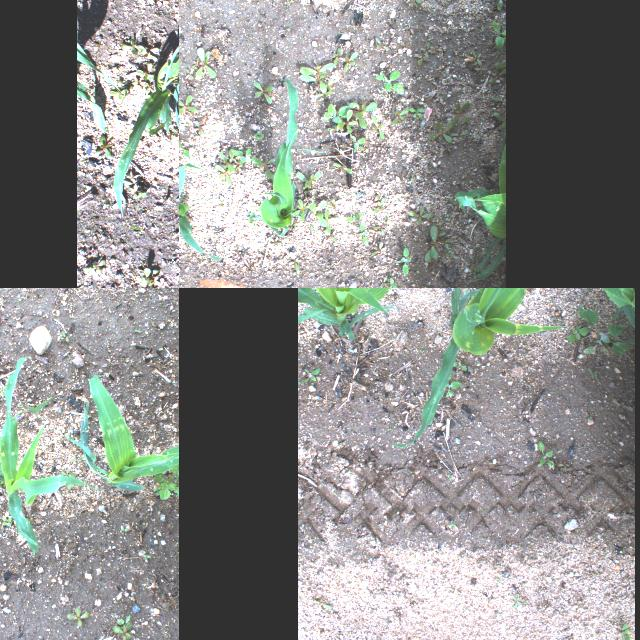crop: (389, 288, 586, 447), (0, 355, 93, 553), (112, 23, 179, 230), (244, 79, 330, 237), (67, 373, 179, 490), (297, 288, 450, 338), (455, 142, 505, 282), (519, 288, 634, 344), (179, 163, 220, 259), (76, 42, 115, 84), (76, 82, 106, 132)
weed: (576, 303, 630, 355), (151, 448, 179, 499), (299, 62, 335, 92), (425, 225, 451, 261), (348, 100, 376, 128), (374, 70, 404, 94), (192, 48, 216, 78), (535, 438, 555, 468), (321, 103, 349, 123), (91, 135, 112, 161), (428, 121, 454, 142), (232, 146, 262, 164), (308, 200, 326, 227), (82, 259, 106, 279), (107, 78, 127, 102), (136, 42, 160, 62), (336, 109, 356, 133), (408, 206, 434, 224), (394, 248, 412, 274), (136, 267, 158, 287), (252, 81, 272, 103), (66, 605, 88, 625), (218, 148, 236, 172), (112, 619, 132, 640), (128, 180, 148, 200), (298, 366, 320, 384), (491, 20, 505, 48), (324, 209, 340, 233), (566, 325, 590, 341), (454, 100, 471, 122), (134, 62, 154, 80), (442, 379, 462, 396), (214, 164, 230, 184), (179, 95, 196, 113), (475, 0, 505, 10), (119, 38, 135, 56), (304, 170, 322, 186), (392, 107, 408, 125), (160, 592, 179, 607), (292, 200, 306, 220), (372, 115, 384, 138), (343, 51, 357, 70), (350, 134, 366, 150), (287, 252, 301, 270), (358, 222, 368, 246), (332, 162, 352, 174), (621, 621, 633, 640), (130, 76, 146, 90), (444, 244, 460, 258), (490, 68, 506, 82), (373, 196, 385, 214), (344, 210, 364, 220), (312, 599, 332, 609), (372, 241, 386, 255), (374, 36, 388, 50), (420, 42, 434, 56), (326, 198, 342, 210), (296, 172, 308, 188), (470, 49, 482, 65), (587, 366, 599, 382), (179, 138, 189, 157), (66, 471, 76, 489), (449, 129, 466, 139), (148, 274, 162, 286), (451, 198, 465, 210), (324, 230, 338, 242), (493, 112, 505, 126), (400, 0, 428, 6), (116, 614, 130, 626), (126, 170, 142, 180), (368, 228, 384, 238), (408, 107, 424, 117), (450, 360, 466, 370), (256, 158, 274, 166), (332, 46, 340, 64), (314, 89, 332, 97), (474, 65, 488, 75), (486, 96, 506, 102), (252, 129, 264, 139), (387, 276, 397, 288), (373, 220, 383, 232), (193, 120, 203, 132), (404, 22, 414, 34), (60, 468, 72, 478), (513, 595, 521, 609), (60, 331, 70, 342), (268, 237, 280, 246), (245, 213, 255, 223), (418, 54, 428, 64), (2, 516, 12, 526), (288, 218, 296, 230), (184, 68, 192, 80), (326, 78, 334, 90), (379, 276, 386, 288), (144, 80, 152, 90), (265, 171, 275, 179), (164, 10, 176, 16), (442, 144, 454, 150), (384, 212, 391, 222), (233, 164, 241, 172), (173, 269, 179, 279), (310, 222, 316, 232), (495, 62, 505, 68), (430, 46, 444, 50), (282, 0, 292, 5), (179, 194, 187, 200), (70, 458, 82, 462), (303, 189, 313, 193), (292, 270, 300, 274), (142, 554, 150, 558), (66, 431, 70, 439), (447, 472, 451, 480), (154, 0, 163, 3), (445, 214, 449, 220), (495, 577, 499, 583), (428, 36, 432, 40), (0, 476, 2, 483), (121, 528, 127, 530)
